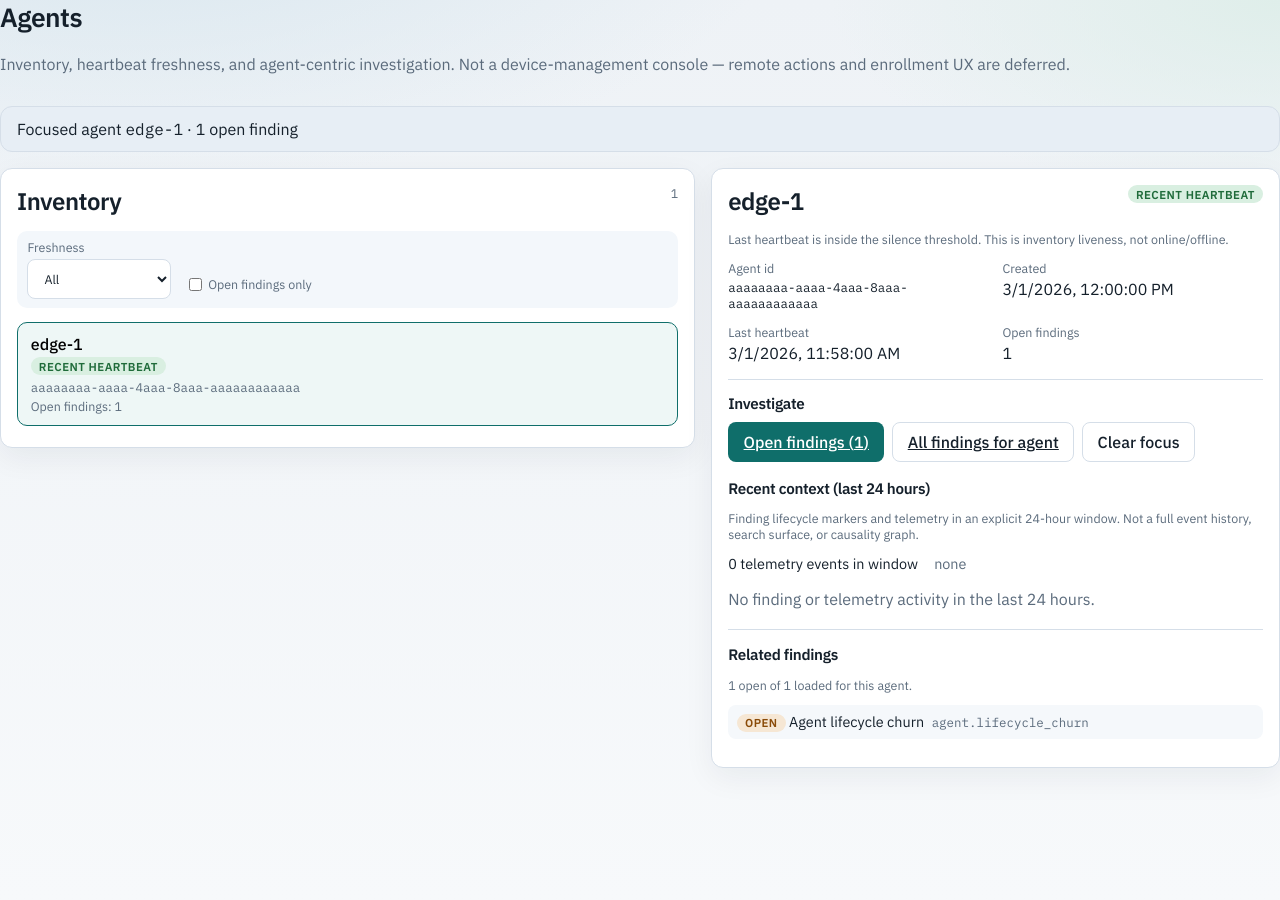
Test case: cross-linking Findings ↔ Agents › focuses an agent from ?agentId= and links through to findings
The width and height of the screenshot is (1280, 900).
Expected: the text "Focused agent edge-1 · 1 open finding" is shown, [0,106,1279,152]
Expected: the heading "edge-1" is shown, [728,185,804,217]
Click the link "Open findings (1)" at coordinates (806, 442), box [728,422,884,462]
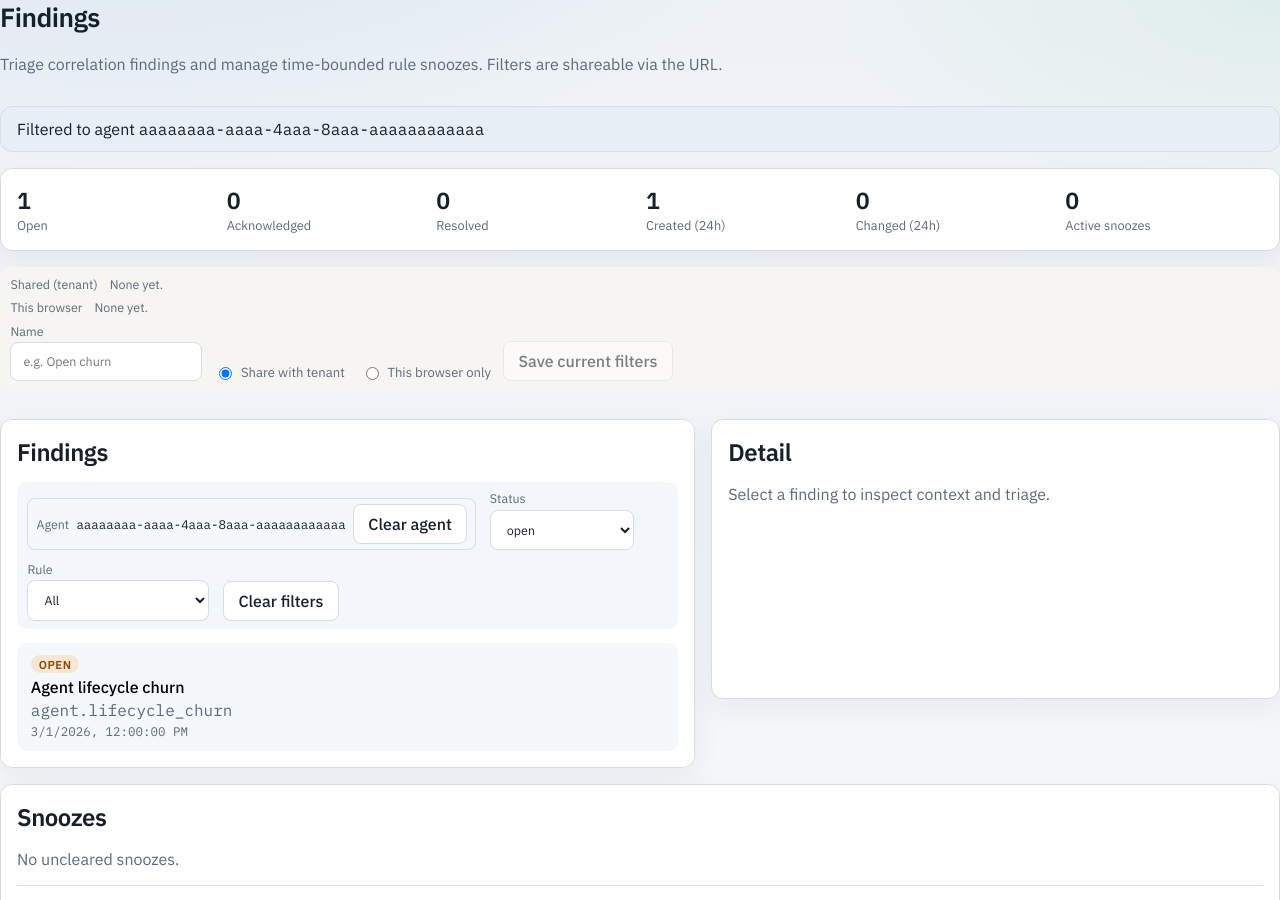
Expected: the text "Filtered to agent aaaaaaaa-aaaa-4aaa-8aaa-aaaaaaaaaaaa" is shown, [0,106,1279,152]
Expected: the text "Agent lifecycle churn" is shown, [31,677,184,697]
Expected: the dropdown labelled "Status" shows "open", [490,510,634,550]
